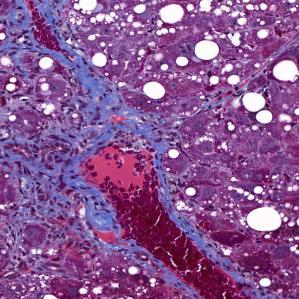fibrosis: (10, 158, 110, 240), (49, 55, 131, 148)
